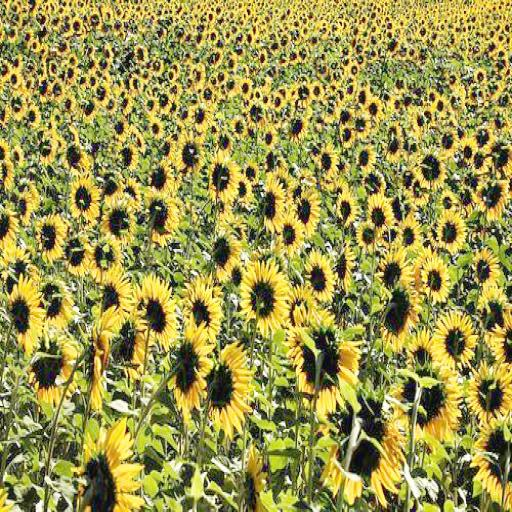sunflower: (322, 412, 404, 503), (393, 329, 460, 440), (76, 418, 145, 512), (295, 331, 358, 412), (210, 343, 251, 437), (240, 261, 288, 337), (28, 334, 76, 410), (182, 269, 230, 341), (473, 426, 512, 512), (134, 275, 179, 349), (172, 329, 211, 412), (7, 275, 45, 354), (469, 362, 510, 424), (433, 312, 476, 369), (382, 281, 416, 346), (142, 191, 180, 243), (372, 246, 412, 294), (102, 192, 136, 248), (288, 185, 322, 235), (303, 250, 336, 300), (43, 278, 74, 329), (258, 175, 285, 232), (206, 155, 240, 200), (210, 226, 240, 277), (414, 144, 445, 190), (476, 174, 508, 218), (436, 206, 466, 251), (91, 238, 121, 283), (37, 214, 65, 260), (70, 180, 99, 224), (421, 254, 450, 298), (176, 129, 203, 172), (66, 226, 90, 274), (367, 194, 396, 232), (473, 246, 498, 288), (397, 214, 422, 255), (334, 243, 355, 289), (490, 134, 512, 175), (277, 218, 302, 254), (148, 161, 174, 194), (336, 183, 357, 221), (358, 166, 385, 195), (317, 143, 338, 180), (65, 143, 90, 174), (248, 100, 268, 134), (212, 130, 235, 158), (118, 142, 139, 170), (473, 123, 493, 152), (39, 131, 57, 163), (438, 128, 458, 155), (356, 145, 376, 169), (231, 112, 249, 138), (459, 137, 477, 163)
